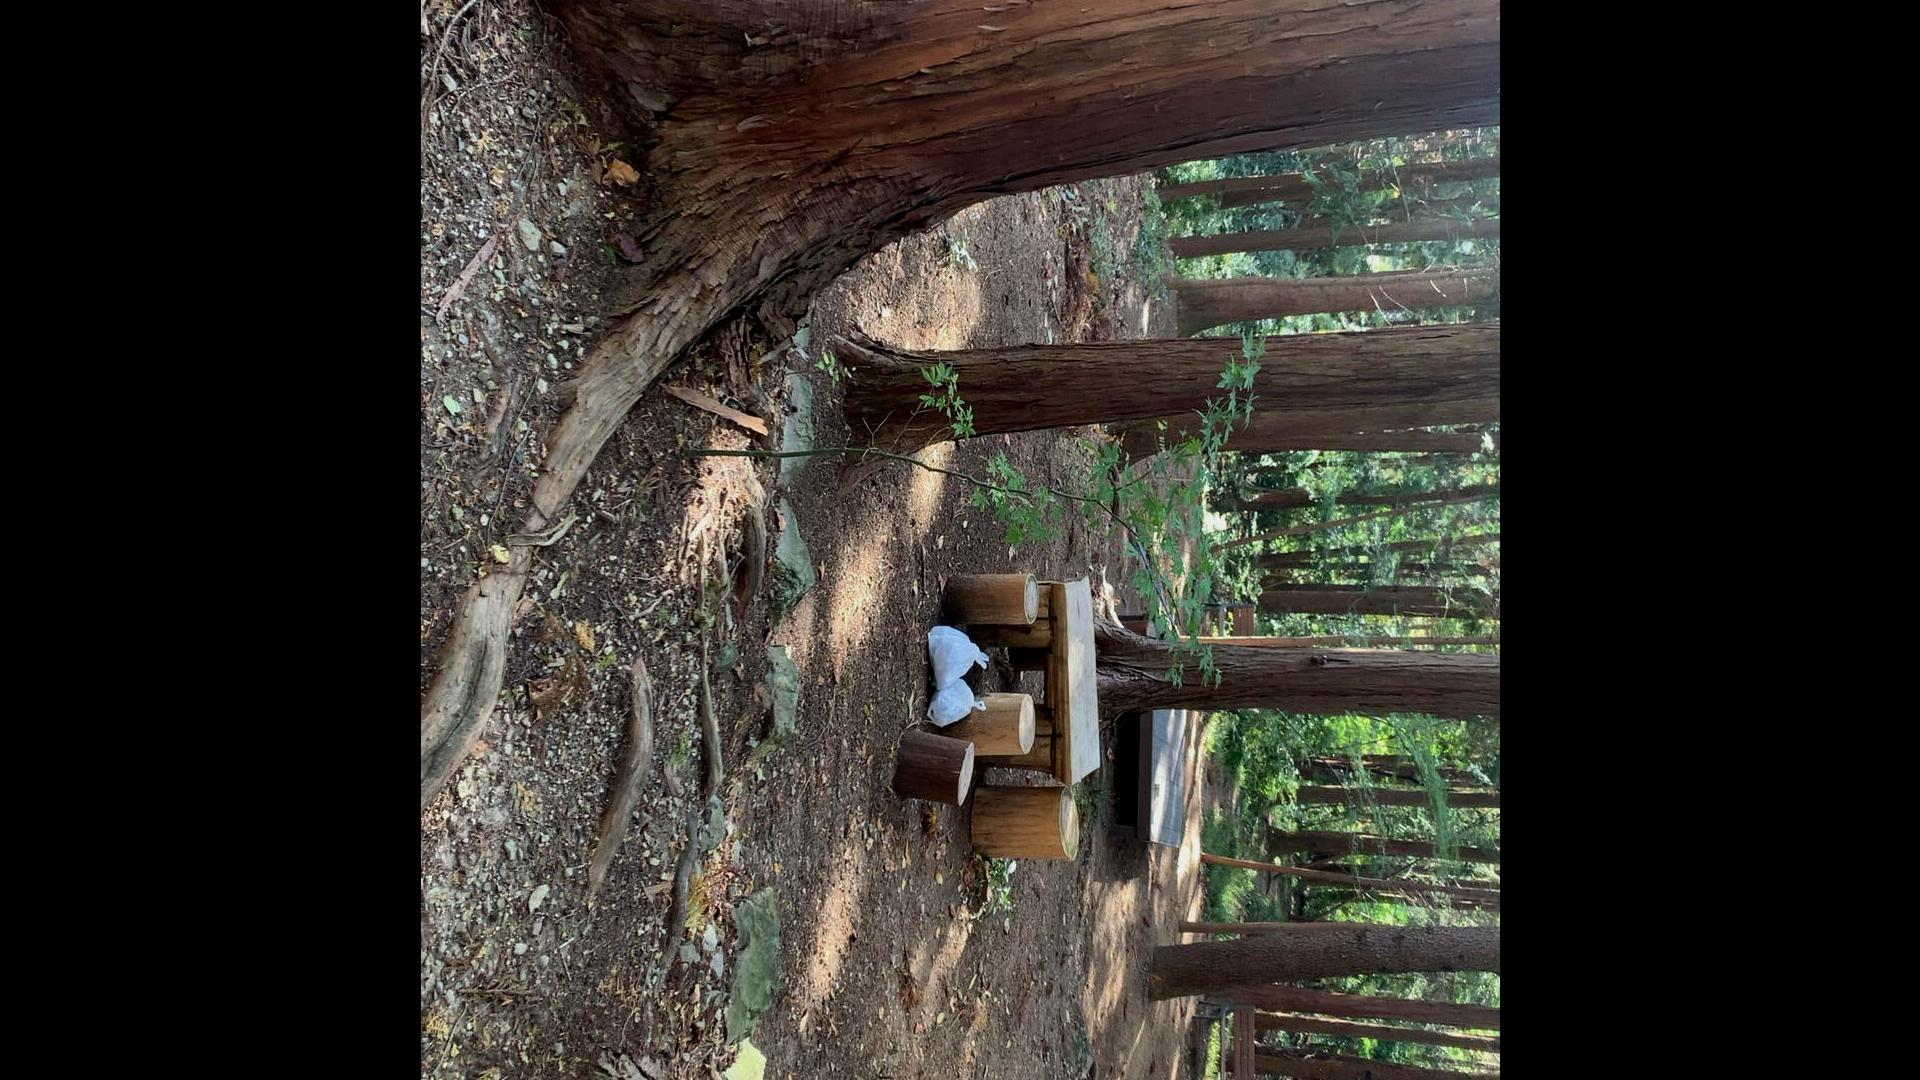white_bag: (926, 622, 990, 692), (924, 674, 986, 731)
